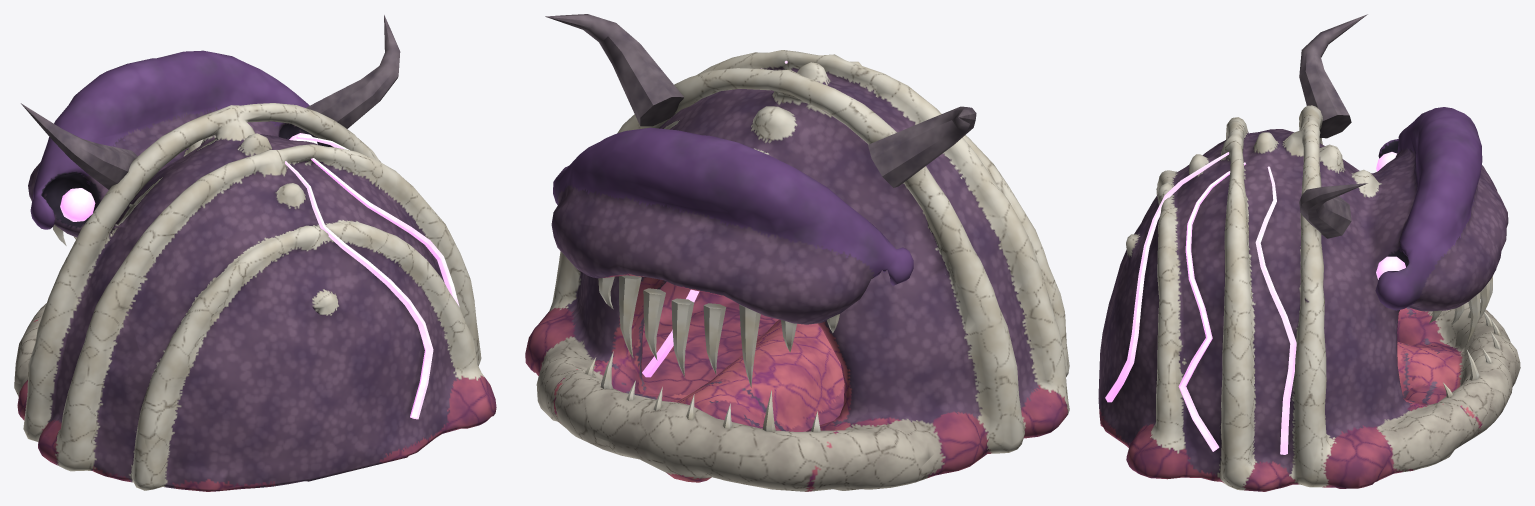
Rendered from guarida_alfa.fbx.
3 views of the same model, side by side, from view 1: azimuth 30°, elevation 25°; view 2: azimuth 150°, elevation 25°; view 3: azimuth 270°, elevation 25° (orthographic). The views are drawn at different scales.
Parts seen in each view (by area): view 1: guarida, venas_neon, ojos_neon; view 2: guarida, venas_neon; view 3: guarida, venas_neon, ojos_neon.
Boxes of the visible parts, x1,y1,x2,y2 form: guarida: (14,15,496,491); venas_neon: (285,136,459,419); ojos_neon: (60,133,317,221); guarida: (525,14,1069,491); venas_neon: (642,60,787,377); guarida: (1098,14,1520,491); venas_neon: (1105,152,1296,454); ojos_neon: (1376,152,1405,279).
Bounding box in the file's own units: 20.01 × 14 × 18.01.
Materials: 1 (1 with a texture image).
